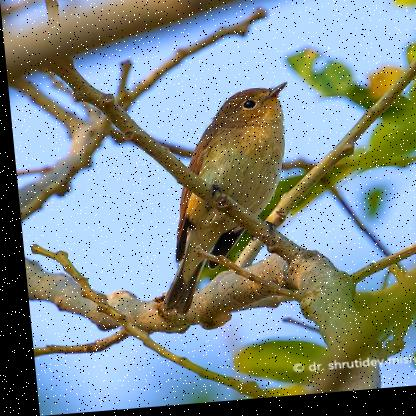Burung: (130, 84, 307, 318)
